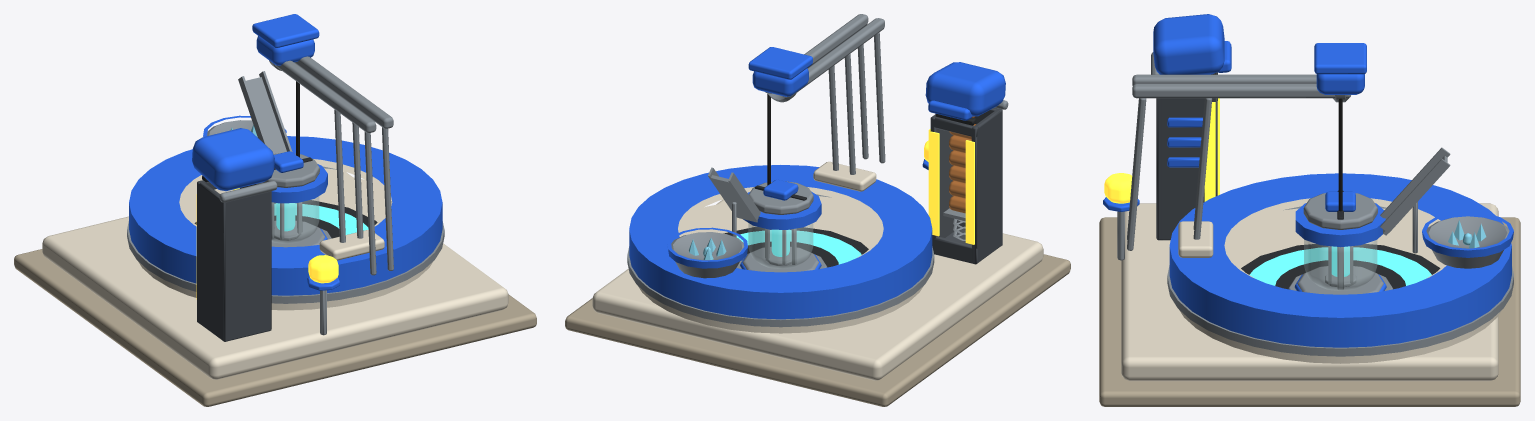
Rendered from deep_mine_crystal.glb.
3 views of the same model, side by side, from view 1: azimuth 30°, elevation 25°; view 2: azimuth 150°, elevation 25°; view 3: azimuth 270°, elevation 25° (orthographic). The views are drawn at different scales.
Parts seen in each view (by area): view 1: stage_1__M_CreamPlastic, stage_2__M_Team, stage_0__M_SugarPad, stage_2__M_SmokePlastic, stage_2__M_SpringSteel, dm_head__M_Team, stage_3__M_Team, stage_1__M_SpringSteel, stage_2__M_FrostGlass, stage_2__M_CreamPlastic, dm_drill__M_SpringSteel, dm_glow__M_E_Cyan (+5 smaller); view 2: stage_2__M_Team, stage_1__M_CreamPlastic, stage_0__M_SugarPad, stage_2__M_SpringSteel, stage_2__M_SmokePlastic, dm_head__M_Team, stage_1__M_SpringSteel, stage_2__M_ClearGlass, stage_3__M_Team, stage_2__M_FrostGlass, dm_warn__M_E_Amber, dm_glow__M_E_Cyan (+5 smaller); view 3: stage_2__M_Team, stage_1__M_CreamPlastic, stage_0__M_SugarPad, stage_2__M_SpringSteel, stage_2__M_SmokePlastic, dm_head__M_Team, stage_1__M_SpringSteel, stage_2__M_FrostGlass, dm_glow__M_E_Cyan, stage_3__M_Team, stage_1__M_Dark, dm_drill__M_SpringSteel (+8 smaller).
Boxes of the visible parts, box(x1,y1,x2,y2) form: stage_1__M_CreamPlastic: box(42, 159, 508, 379); stage_2__M_Team: box(129, 115, 442, 295); stage_0__M_SugarPad: box(14, 249, 536, 406); stage_2__M_SmokePlastic: box(197, 180, 271, 341); stage_2__M_SpringSteel: box(207, 56, 393, 335); dm_head__M_Team: box(192, 128, 274, 191); stage_3__M_Team: box(252, 14, 319, 65); stage_1__M_SpringSteel: box(127, 166, 444, 303); stage_2__M_FrostGlass: box(272, 196, 318, 243); stage_2__M_CreamPlastic: box(319, 229, 384, 260); dm_drill__M_SpringSteel: box(261, 153, 319, 187); dm_glow__M_E_Cyan: box(274, 203, 368, 234); stage_2__M_Team: box(629, 165, 932, 319); stage_1__M_CreamPlastic: box(592, 187, 1043, 380); stage_0__M_SugarPad: box(565, 254, 1070, 406); stage_2__M_SpringSteel: box(671, 14, 885, 278); stage_2__M_SmokePlastic: box(930, 107, 1002, 264); dm_head__M_Team: box(925, 62, 1005, 120); stage_1__M_SpringSteel: box(627, 194, 934, 327); stage_2__M_ClearGlass: box(936, 129, 970, 245); stage_3__M_Team: box(748, 47, 812, 96); stage_2__M_FrostGlass: box(748, 223, 812, 268); dm_warn__M_E_Amber: box(928, 129, 974, 244); dm_glow__M_E_Cyan: box(736, 230, 861, 264); stage_2__M_Team: box(1167, 117, 1513, 347); stage_1__M_CreamPlastic: box(1121, 198, 1501, 381); stage_0__M_SugarPad: box(1099, 217, 1520, 406); stage_2__M_SpringSteel: box(1117, 74, 1509, 294); stage_2__M_SmokePlastic: box(1156, 72, 1217, 240); dm_head__M_Team: box(1153, 14, 1231, 74); stage_1__M_SpringSteel: box(1167, 206, 1513, 356); stage_2__M_FrostGlass: box(1304, 240, 1376, 290); dm_glow__M_E_Cyan: box(1249, 247, 1431, 285); stage_3__M_Team: box(1314, 43, 1366, 94); stage_1__M_Dark: box(1241, 244, 1440, 289); dm_drill__M_SpringSteel: box(1303, 193, 1377, 229).
Bounding box in the file's own units: 1.92 × 1.4 × 1.92.
